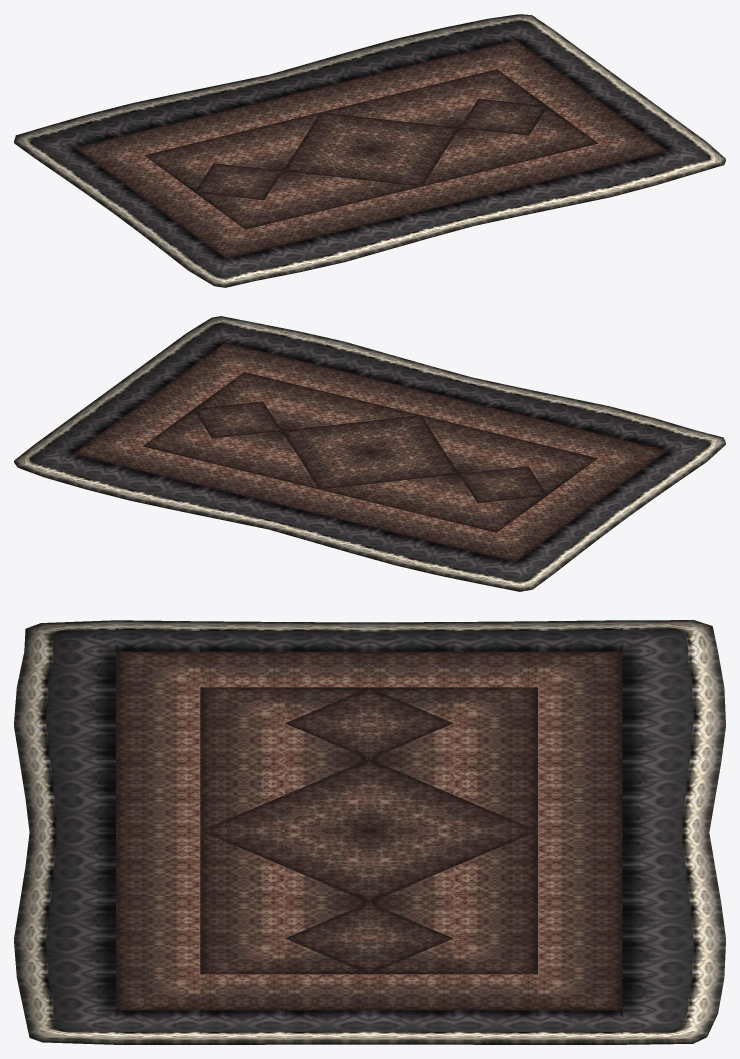
The model's file is AntiqueCarpet_HD.fbx.
3 renders of one model, top to bottom at view 1: azimuth 30°, elevation 25°; view 2: azimuth 150°, elevation 25°; view 3: azimuth 270°, elevation 25°, orthographic. The views are drawn at different scales.
Parts seen in each view (by area): view 1: AntiqueCarpet; view 2: AntiqueCarpet; view 3: AntiqueCarpet.
Part boxes in pixels (x1,y1,x2,y2): AntiqueCarpet: (14,14,725,287); AntiqueCarpet: (14,316,725,591); AntiqueCarpet: (14,620,725,1044).
Size of the model in its own units: 2.67 by 0.0101 by 1.91.
